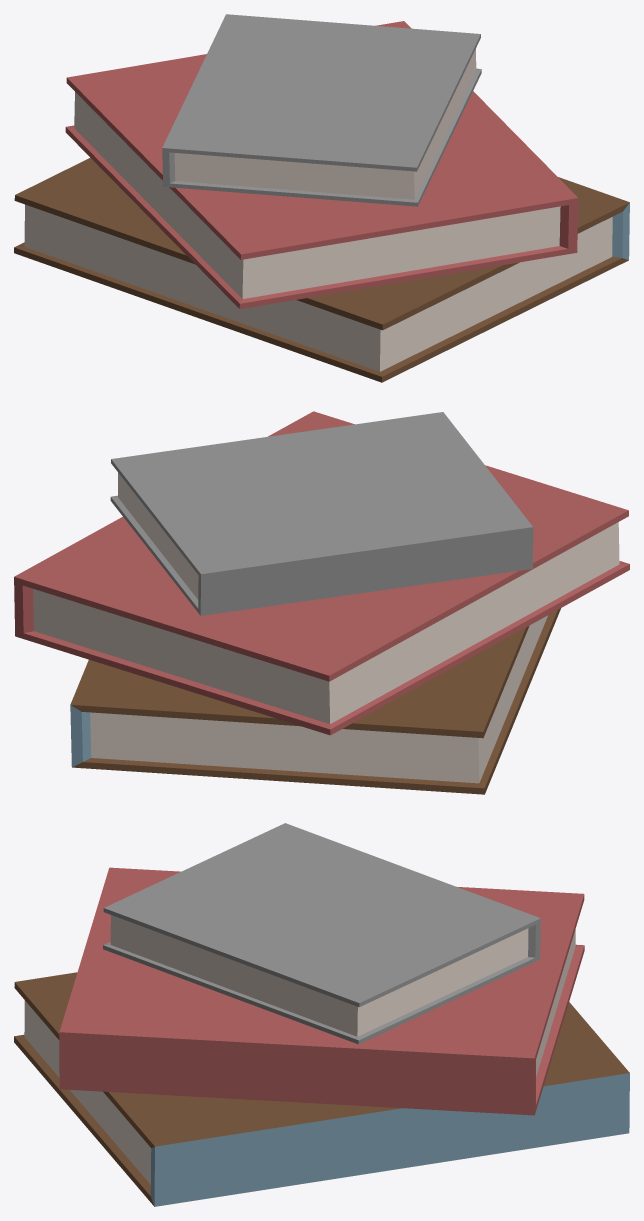
Rendered from Books_17.fbx.
The picture shows the model from 3 angles, top to bottom: view 1: azimuth 30°, elevation 25°; view 2: azimuth 150°, elevation 25°; view 3: azimuth 270°, elevation 25°; orthographic projection. The views are drawn at different scales.
Parts seen in each view (by area): view 1: Books_17; view 2: Books_17; view 3: Books_17.
Part boxes in pixels (x1,y1,x2,y2): Books_17: (14,14,629,382); Books_17: (14,411,629,794); Books_17: (14,823,629,1206).
Size of the model in its own units: 38.77 by 42.77 by 13.59.
